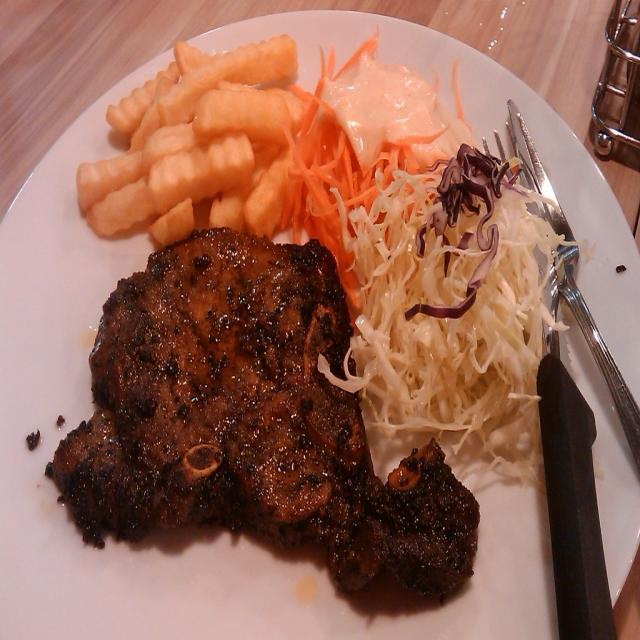cac loai rau cu: (301, 30, 540, 484)
khoai tay chien: (76, 36, 300, 236)
thit heo: (49, 229, 476, 626)
thit lon bistek: (40, 44, 566, 605)
